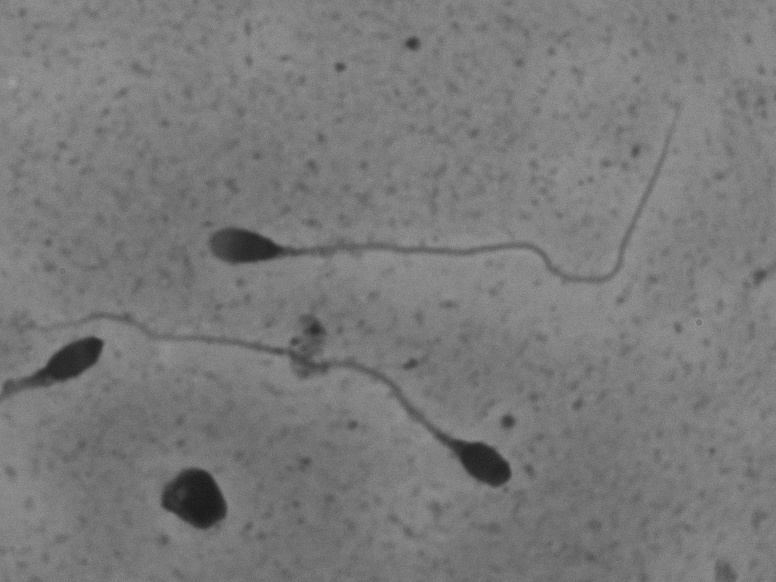Abnormal: (37, 295, 544, 519)
Normal: (184, 96, 694, 318)
